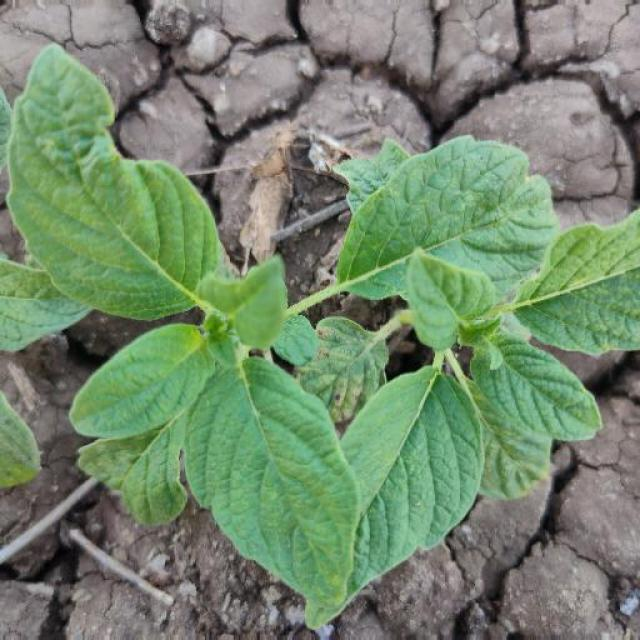crop: (6, 53, 640, 622)
